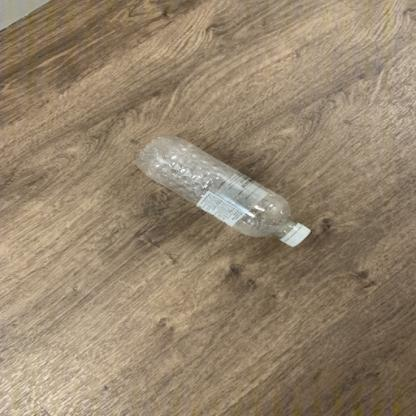trash: (135, 137, 313, 251)
